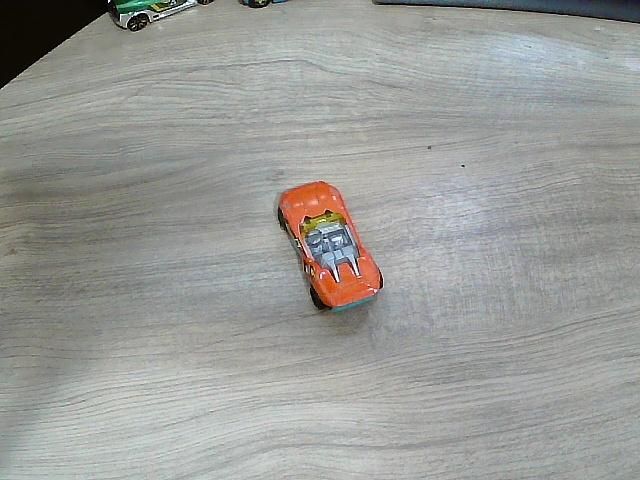Carro: (279, 182, 381, 312), (106, 0, 217, 32)
